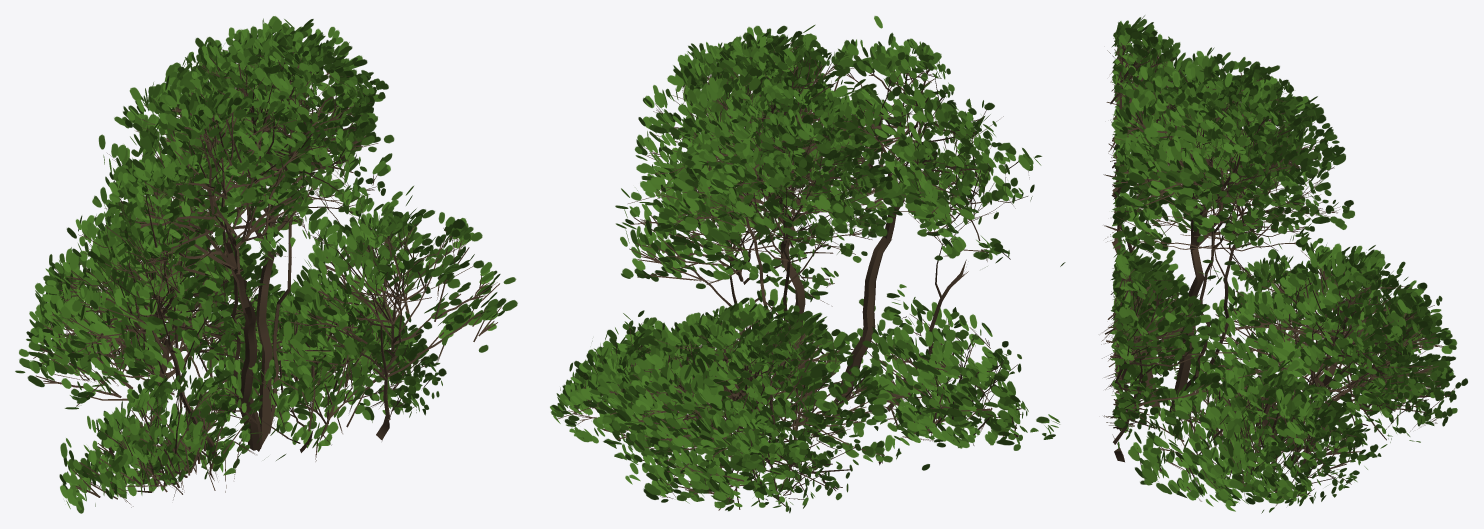
The picture shows the model from 3 angles, left to right: view 1: azimuth 30°, elevation 25°; view 2: azimuth 150°, elevation 25°; view 3: azimuth 270°, elevation 25°; orthographic projection. The views are drawn at different scales.
Visible parts, largest first — view 1: oak 01.001_trunk_Mat.001_0.349; view 2: oak 01.001_trunk_Mat.001_0.349; view 3: oak 01.001_trunk_Mat.001_0.349.
Boxes of the visible parts, bbox=[...] form: oak 01.001_trunk_Mat.001_0.349: bbox=[15, 16, 517, 513]; oak 01.001_trunk_Mat.001_0.349: bbox=[550, 16, 1065, 513]; oak 01.001_trunk_Mat.001_0.349: bbox=[1101, 15, 1467, 513].
Bounding box in the file's own units: 4.9 × 4.24 × 3.68.
2 materials, 1 textured.
